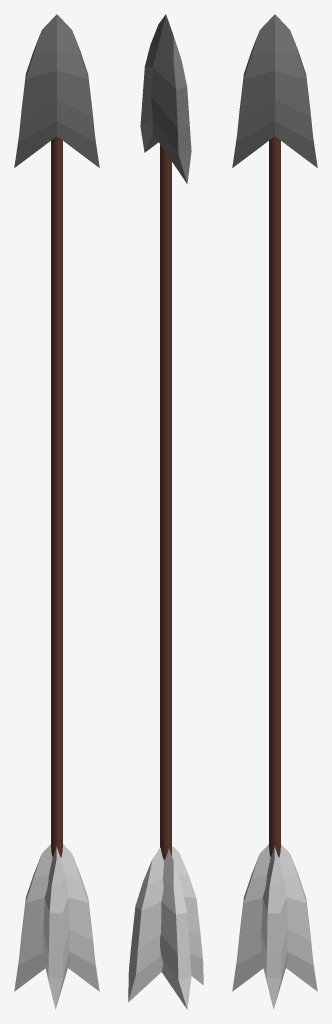
The model's file is arrow.fbx.
3 views of the same model, side by side, from view 1: azimuth 90°, elevation 25°; view 2: azimuth 210°, elevation 25°; view 3: azimuth 270°, elevation 25° (orthographic).
Parts seen in each view (by area): view 1: 立方體.001; view 2: 立方體.001; view 3: 立方體.001.
Boxes of the visible parts, x1,y1,x2,y2 form: 立方體.001: (14, 14, 99, 1009); 立方體.001: (128, 14, 203, 1009); 立方體.001: (232, 14, 317, 1009).
Size of the model in its own units: 41.33 by 521 by 41.35.
